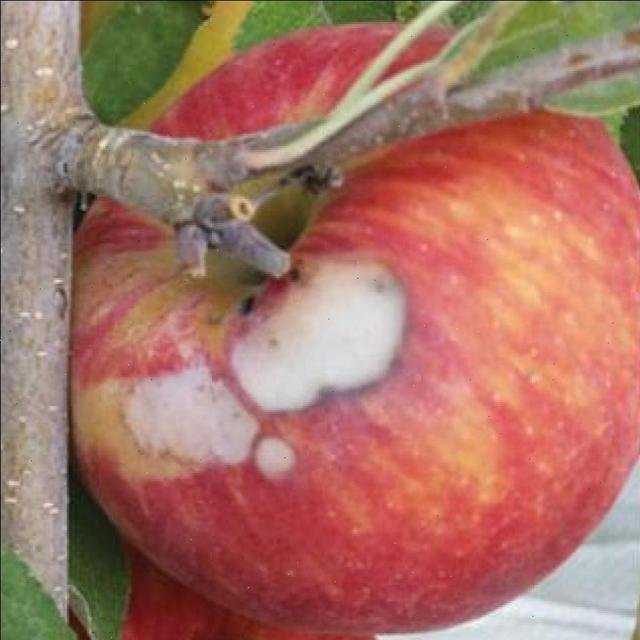Sunscald Fruit: (84, 154, 288, 339)
